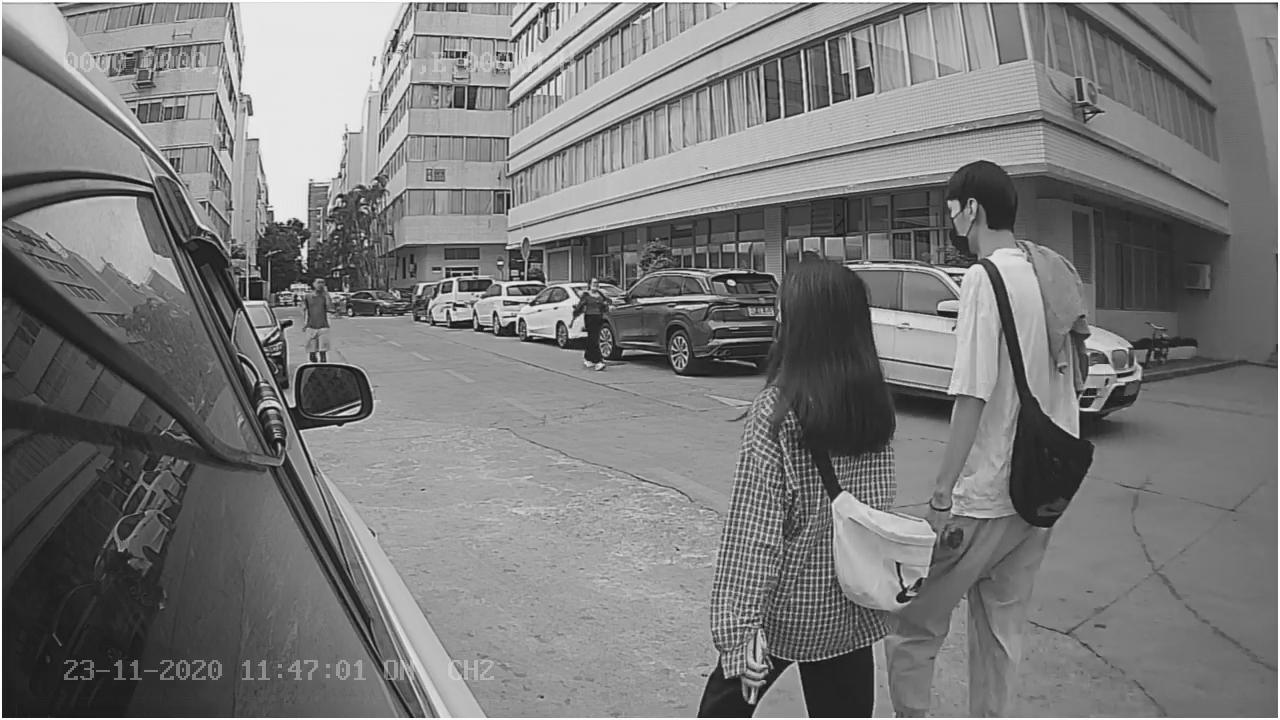person: (927, 142, 1114, 572), (709, 249, 902, 606)
